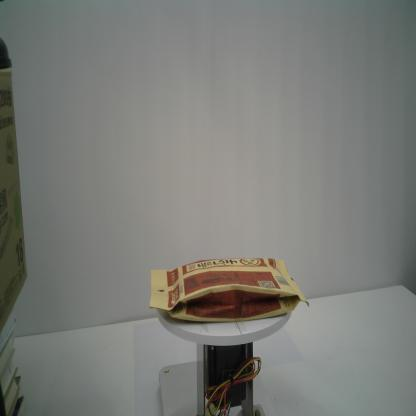Dried Food: (147, 256, 311, 324)
